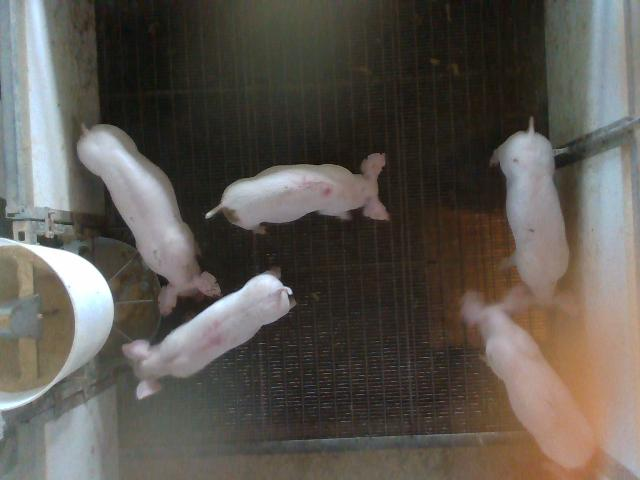pig-4: (122, 271, 295, 398)
pig-5: (206, 154, 389, 233)
